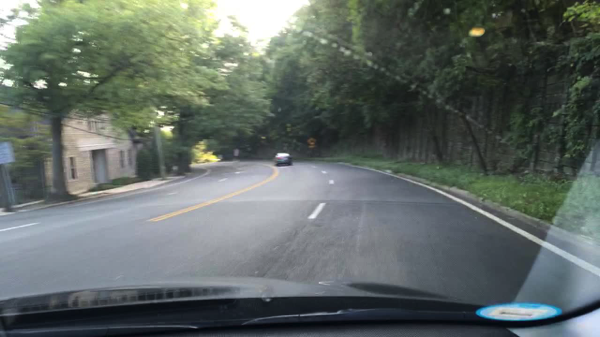car: (273, 152, 291, 167), (214, 154, 223, 163)
traffic sign: (1, 140, 17, 166), (306, 138, 316, 148)
